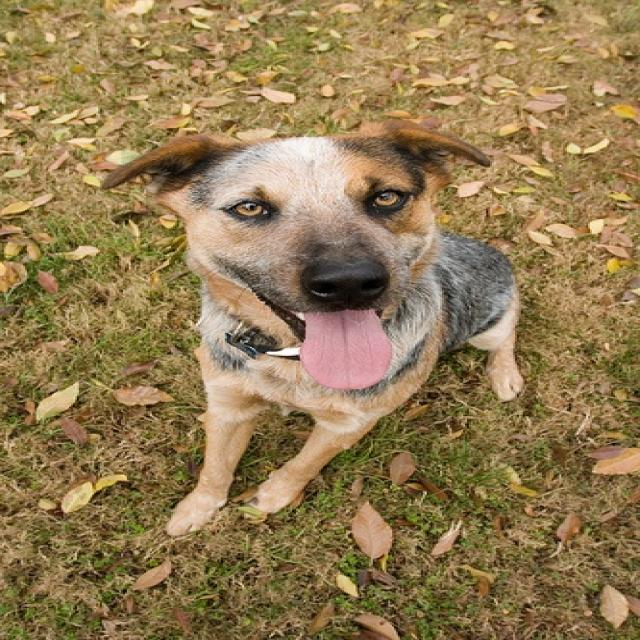dog: (93, 125, 530, 540)
